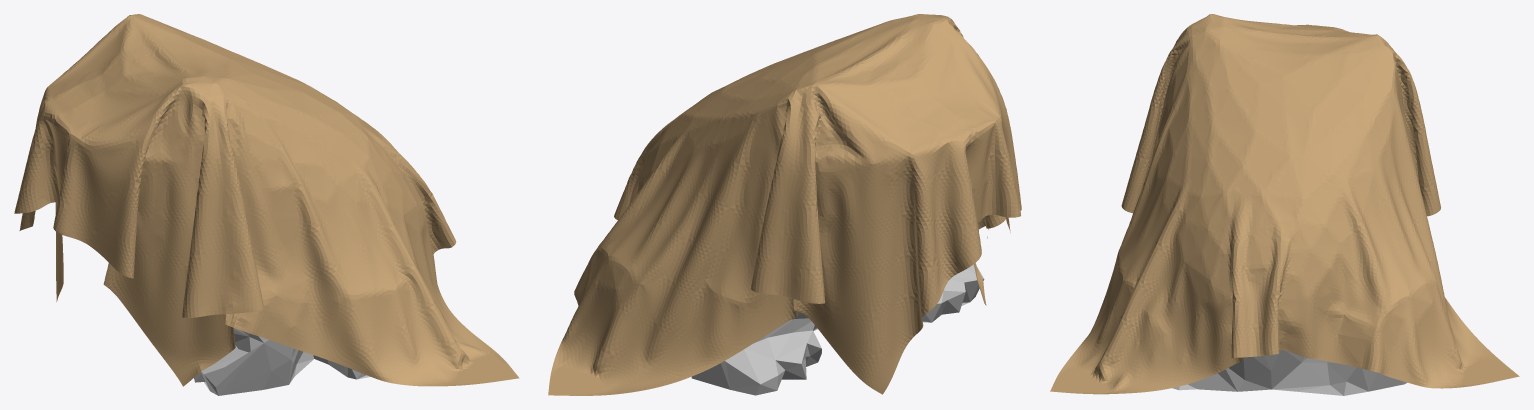
The model's file is level_3.glb.
The picture shows the model from 3 angles, left to right: view 1: azimuth 30°, elevation 25°; view 2: azimuth 150°, elevation 25°; view 3: azimuth 270°, elevation 25°; orthographic projection. The views are drawn at different scales.
Parts seen in each view (by area): view 1: world, object.obj; view 2: world, object.obj; view 3: world, object.obj.
Part boxes in pixels (x1,y1,x2,y2): world: (14, 14, 519, 386); object.obj: (194, 328, 370, 395); world: (548, 14, 1021, 395); object.obj: (691, 264, 984, 395); world: (1050, 14, 1519, 394); object.obj: (1172, 350, 1406, 395).
Size of the model in its own units: 0.4116 by 0.2959 by 0.4721.
